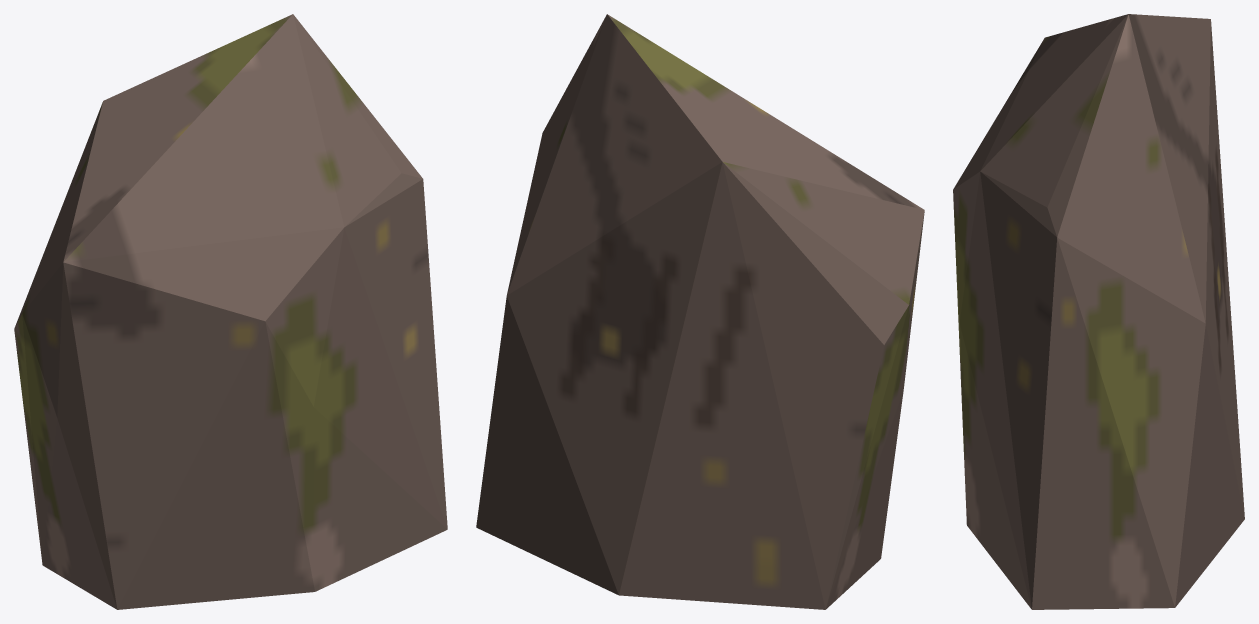
Rendered from SM_MK04_StoneMarkLow.fbx.
3 renders of one model, left to right at view 1: azimuth 30°, elevation 25°; view 2: azimuth 150°, elevation 25°; view 3: azimuth 270°, elevation 25°, orthographic. The views are drawn at different scales.
Visible parts, largest first — view 1: MK04_Stone; view 2: MK04_Stone; view 3: MK04_Stone.
Boxes of the visible parts, <box> form: MK04_Stone: <box>14,14,447,609</box>; MK04_Stone: <box>476,14,924,609</box>; MK04_Stone: <box>953,14,1244,609</box>.
Size of the model in its own units: 0.5223 by 0.6491 by 0.3183.
